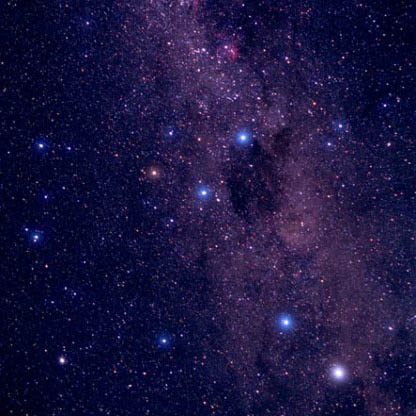Southern Cross: (187, 179, 215, 207), (233, 122, 255, 150), (141, 162, 161, 186), (163, 125, 181, 145)
